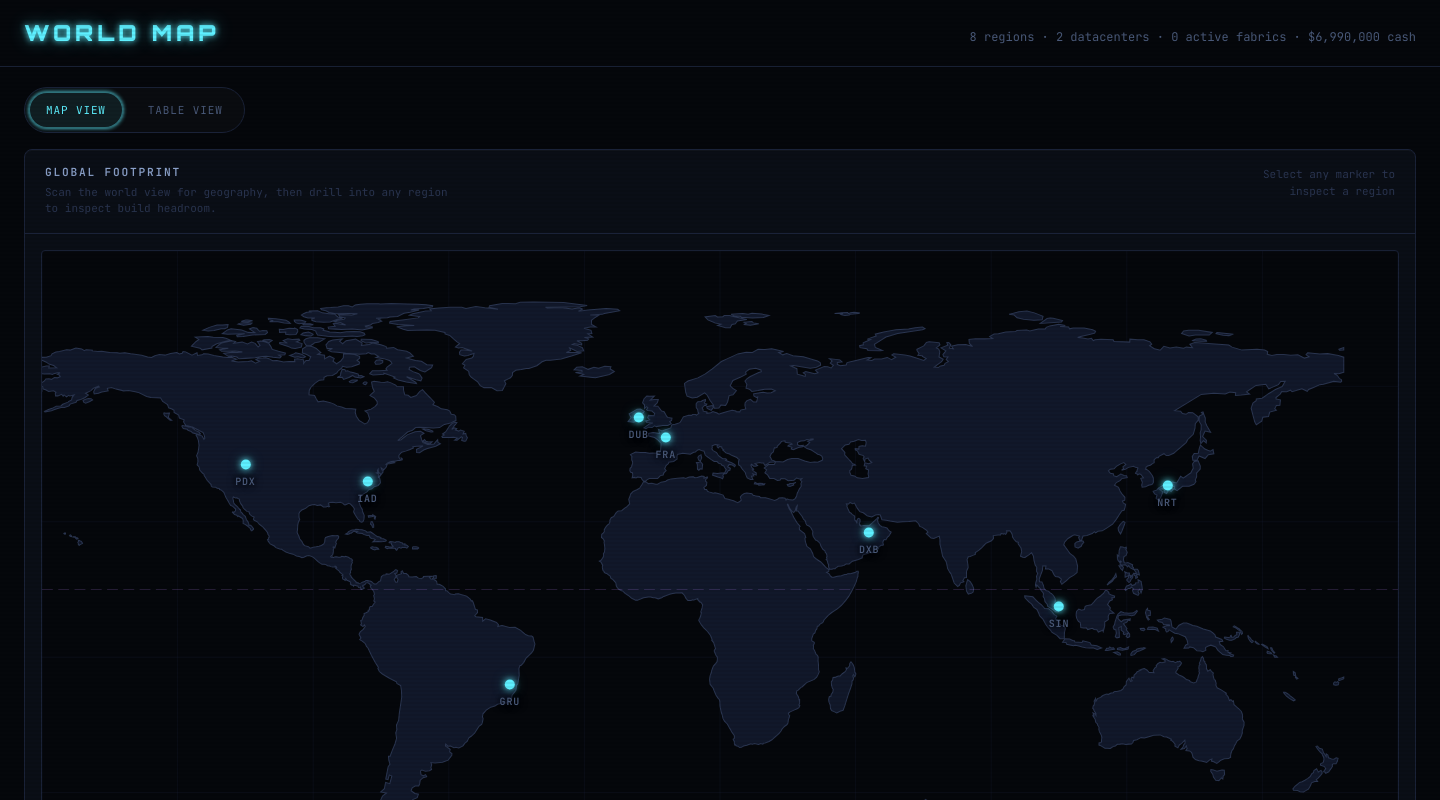
Test: MapView › creates a regional fabric from the region panel and updates the map subtitle
This screenshot has width=1440, height=800.
Click the tab "Table view".
click(185, 110)  # box [131, 92, 240, 128]
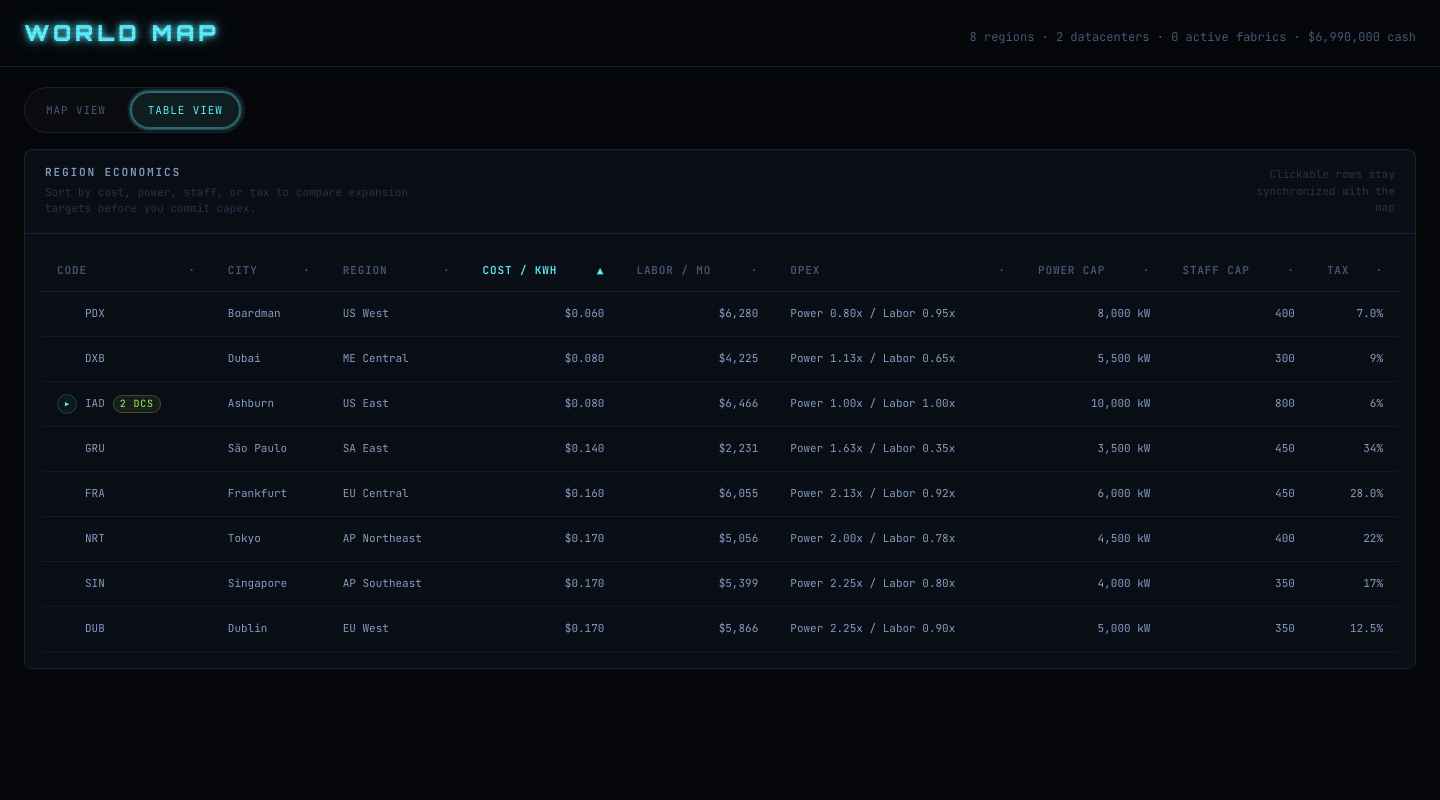
Click the button with aria-label "Select region row IAD — Ashburn, US East".
click(720, 404)  # box [41, 382, 1399, 427]
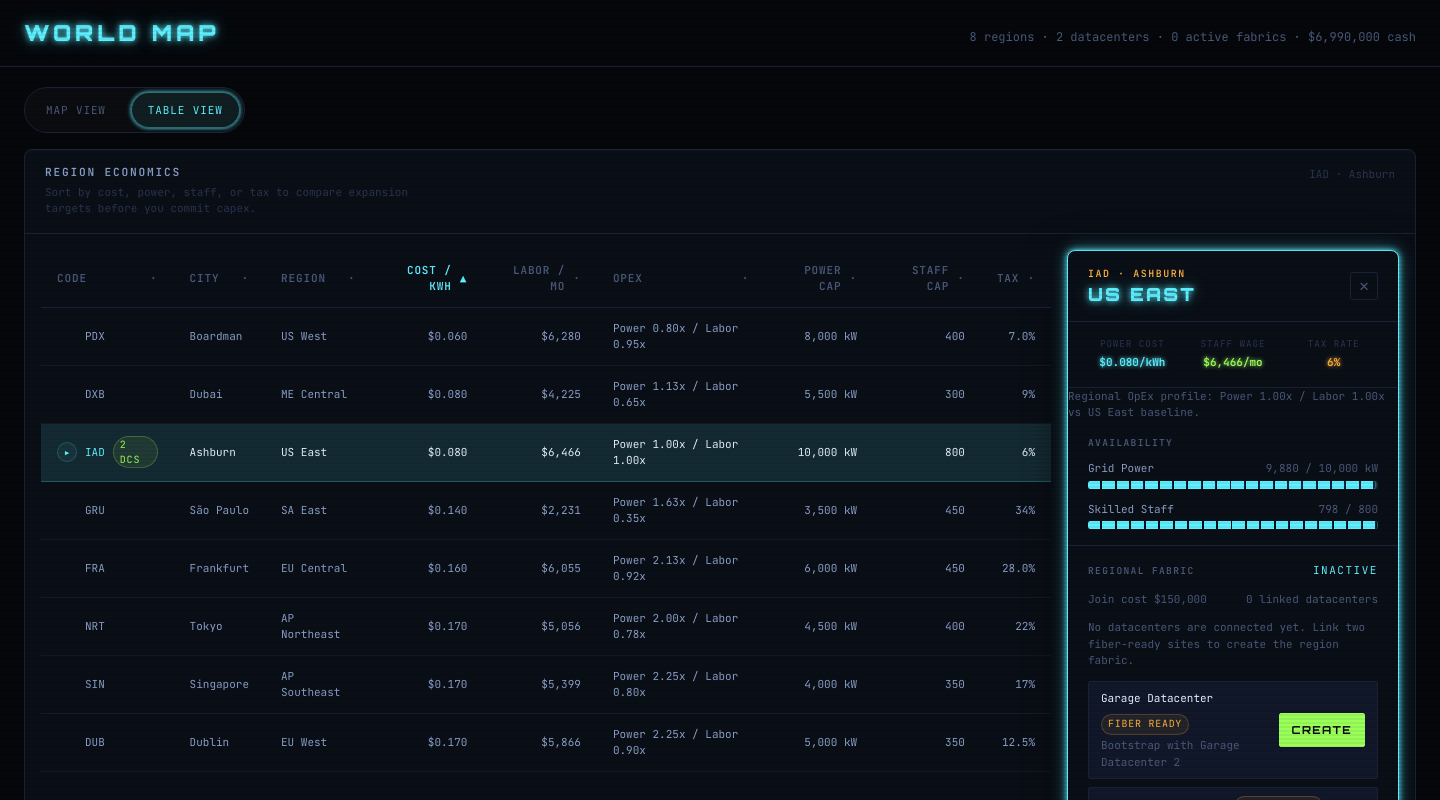
Click the button with aria-label "Create fabric with Garage Datacenter and Garage Datacenter".
click(1322, 730)  # box [1279, 713, 1365, 747]
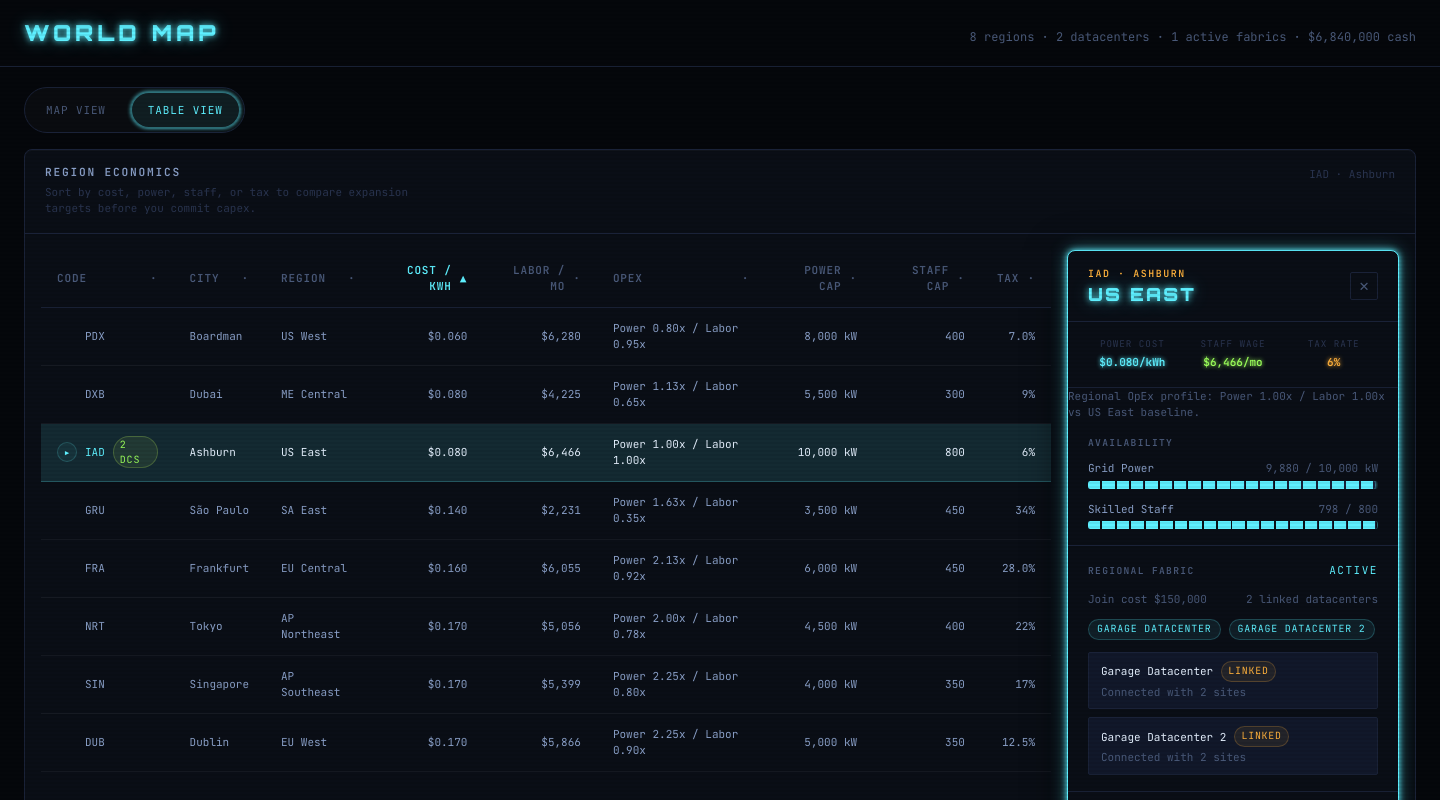
Expected: the text "ACTIVE" is shown, [1329, 562, 1378, 579]
Expected: the text "1 active fabrics" is shown, [970, 28, 1416, 46]
Expected: the 1st text "LINKED" is shown, [1221, 661, 1276, 682]
